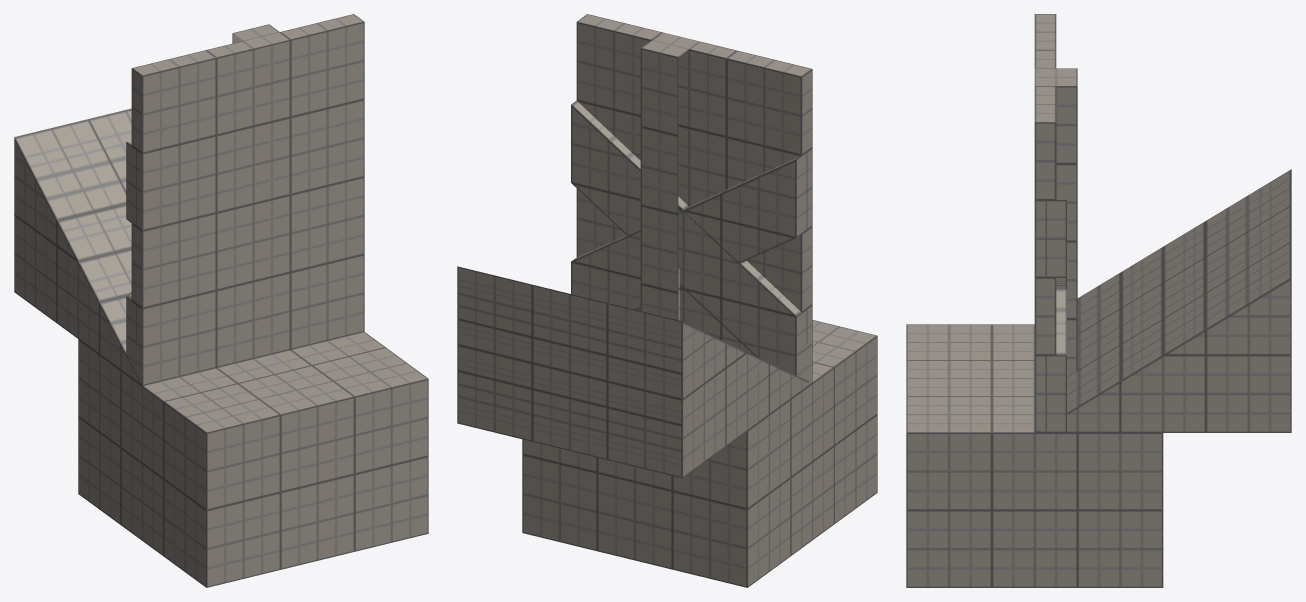
File: LevelPieces.FBX
3 renders of one model, left to right at view 1: azimuth 30°, elevation 25°; view 2: azimuth 150°, elevation 25°; view 3: azimuth 270°, elevation 25°, orthographic.
Visible parts, largest first — view 1: Wall, Voxel, Stair, WallSeprator, Fence_StairL, Fence_StairR; view 2: Voxel, Stair, Wall, Fence_StairR, Fence_StairL, WallSeprator, Fence; view 3: Voxel, Stair, Wall, WallSeprator, Fence_StairR, Fence, Fence_StairL.
Part boxes in pixels (bbox=[...]): Wall: bbox=[131, 14, 364, 385]; Voxel: bbox=[78, 332, 428, 587]; Stair: bbox=[14, 108, 139, 383]; WallSeprator: bbox=[232, 24, 290, 48]; Fence_StairL: bbox=[126, 142, 136, 226]; Fence_StairR: bbox=[126, 292, 136, 367]; Voxel: bbox=[522, 320, 877, 587]; Stair: bbox=[457, 266, 808, 478]; Wall: bbox=[576, 14, 812, 385]; Fence_StairR: bbox=[571, 100, 807, 378]; Fence_StairL: bbox=[571, 152, 807, 309]; WallSeprator: bbox=[640, 32, 699, 319]; Fence: bbox=[637, 289, 753, 354]; Voxel: bbox=[906, 324, 1163, 587]; Stair: bbox=[1035, 169, 1291, 432]; Wall: bbox=[1034, 14, 1056, 432]; WallSeprator: bbox=[1034, 68, 1077, 376]; Fence_StairR: bbox=[1045, 200, 1066, 289]; Fence: bbox=[1045, 355, 1066, 432]; Fence_StairL: bbox=[1056, 289, 1066, 355].
Bounding box in the file's own units: 3 × 6 × 4.5.
Materials: 1 (1 with a texture image).
